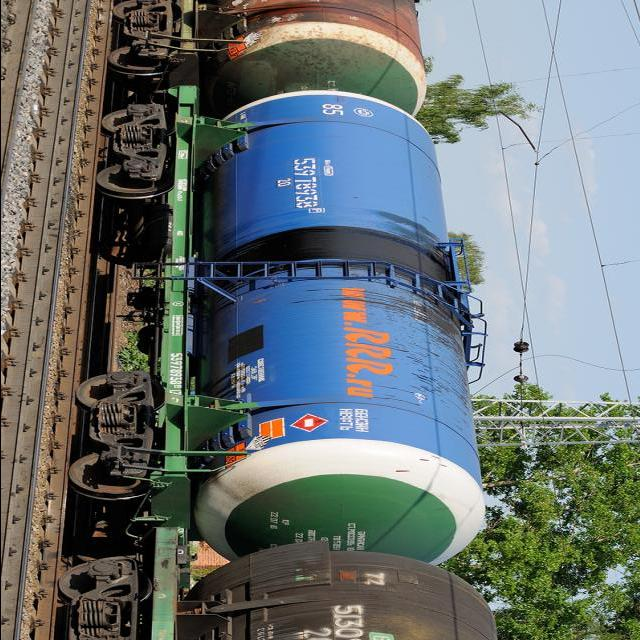wagon: (291, 154, 320, 209), (164, 350, 184, 386)
